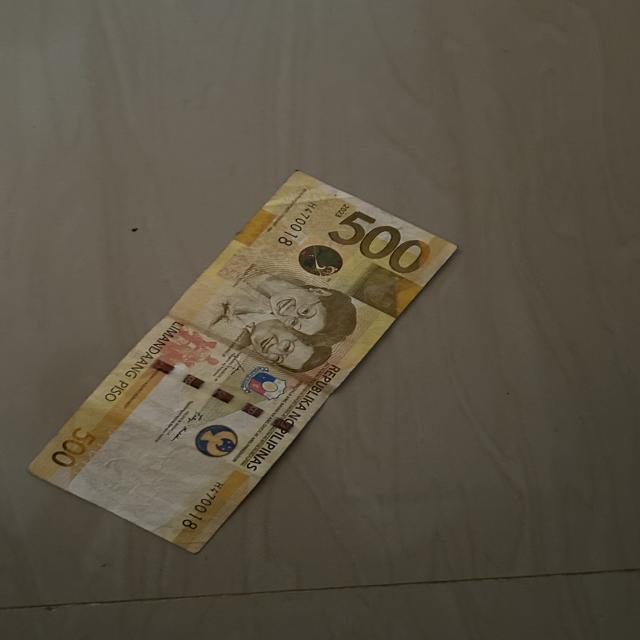concealed_value: (360, 268, 422, 313)
optically_variable_device: (292, 240, 348, 276)
see_through_mark: (69, 426, 122, 485)
